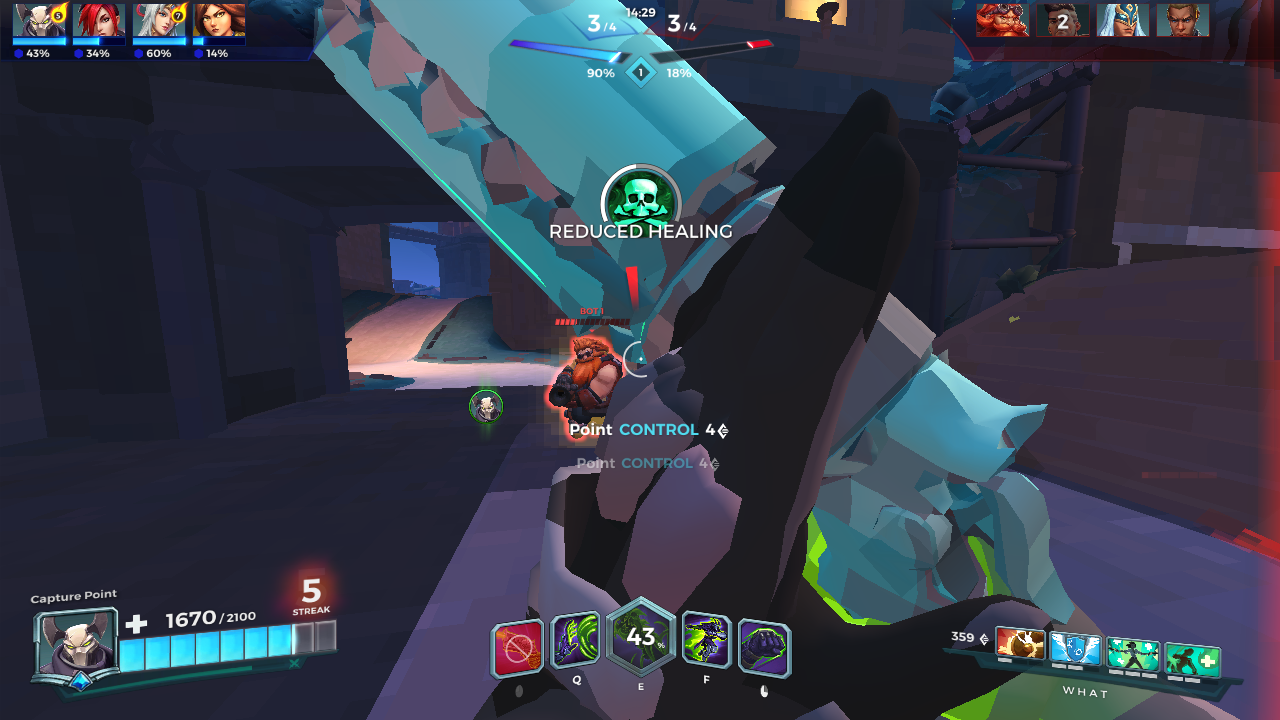model: (551, 332, 630, 429)
